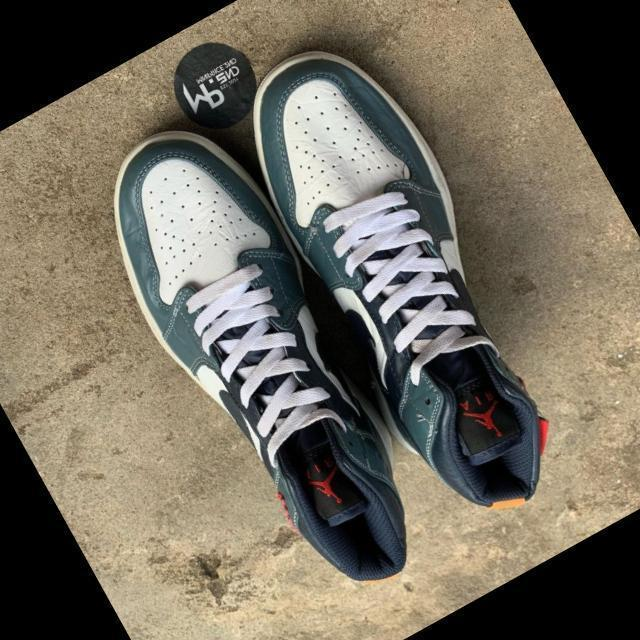nike fake jordan 1: (208, 9, 604, 538), (69, 98, 456, 619)
